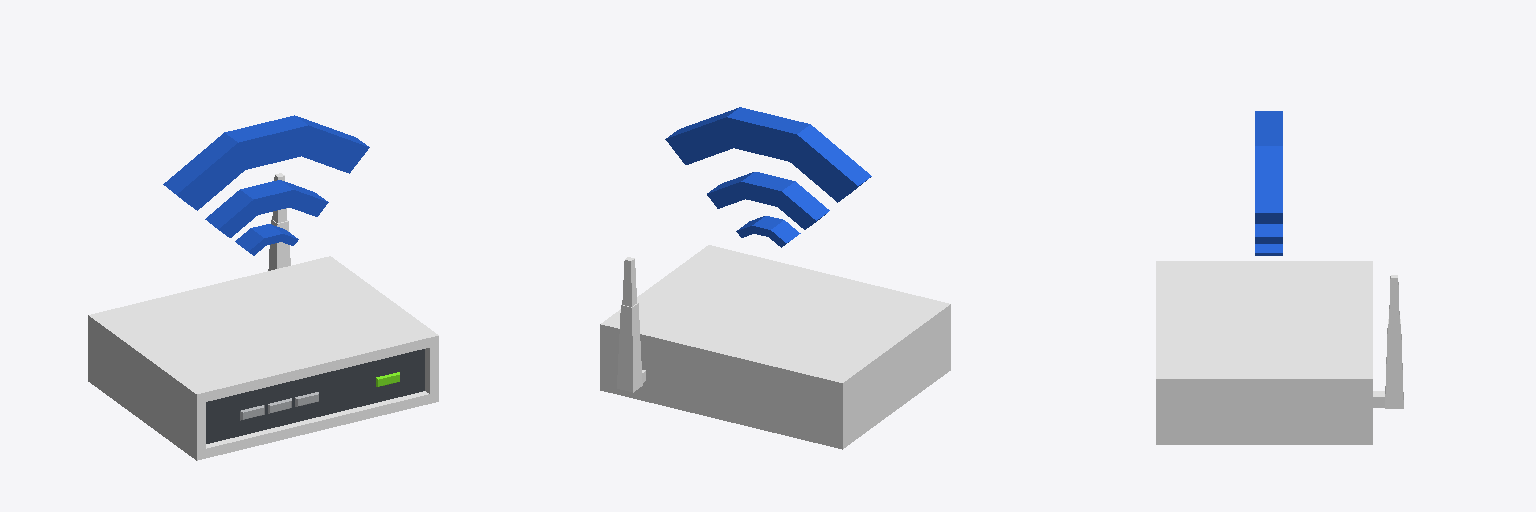
Rendered from wifi.obj.
3 views of the same model, side by side, from view 1: azimuth 30°, elevation 25°; view 2: azimuth 150°, elevation 25°; view 3: azimuth 270°, elevation 25° (orthographic).
Parts seen in each view (by area): view 1: Box036, Tube002, Tube001, Tube003, Box037; view 2: Box036, Tube002, Tube001, Box037, Tube003, Box039; view 3: Box036, Tube002, Box037, Tube001.
Boxes of the visible parts, x1,y1,x2,y2 form: Box036: [88, 256, 438, 460]; Tube002: [163, 115, 369, 210]; Tube001: [205, 180, 328, 237]; Tube003: [235, 224, 298, 255]; Box037: [268, 219, 290, 270]; Box036: [600, 245, 950, 449]; Tube002: [665, 107, 871, 202]; Tube001: [707, 172, 829, 229]; Box037: [617, 303, 642, 392]; Tube003: [736, 216, 800, 247]; Box039: [622, 257, 636, 306]; Box036: [1156, 261, 1372, 444]; Tube002: [1255, 111, 1282, 223]; Box037: [1385, 319, 1403, 408]; Tube001: [1255, 224, 1282, 243].
Size of the model in its own units: 92 by 94.24 by 81.37.